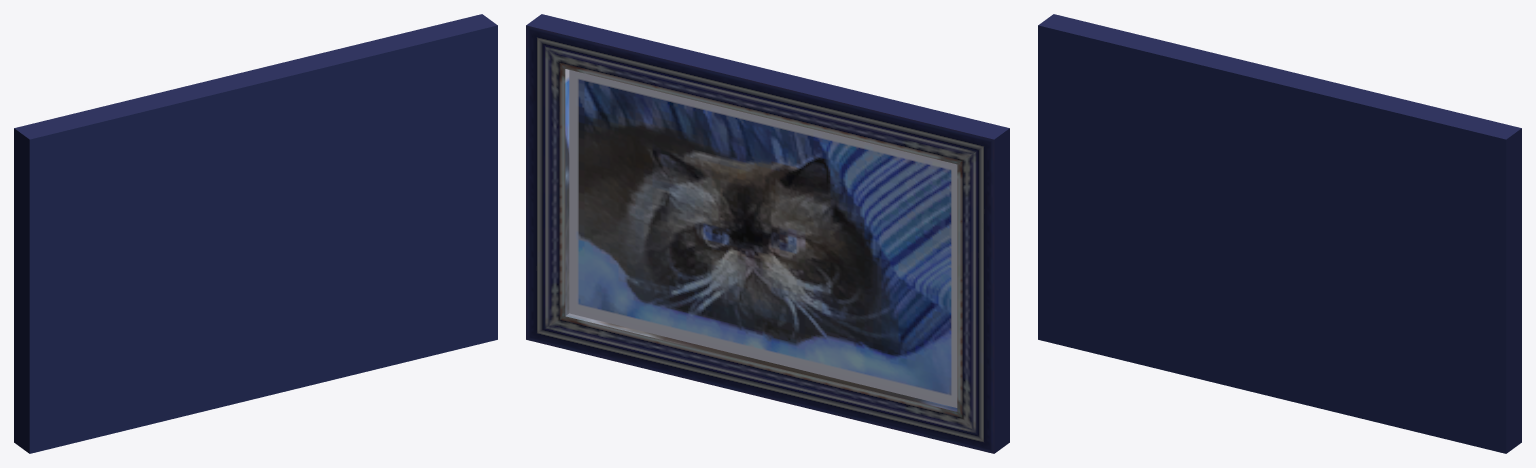
Rendered from furni_0200069_01.FBX.
The picture shows the model from 3 angles, left to right: view 1: azimuth 30°, elevation 25°; view 2: azimuth 150°, elevation 25°; view 3: azimuth 330°, elevation 25°; orthographic projection.
Parts seen in each view (by area): view 1: furni_0200069; view 2: furni_0200069; view 3: furni_0200069.
Boxes of the visible parts, bbox=[...] form: furni_0200069: bbox=[14, 14, 497, 453]; furni_0200069: bbox=[526, 14, 1009, 453]; furni_0200069: bbox=[1038, 14, 1521, 453].
Size of the model in its own units: 79.48 by 51 by 4.58.
Materials: 1 (1 with a texture image).
